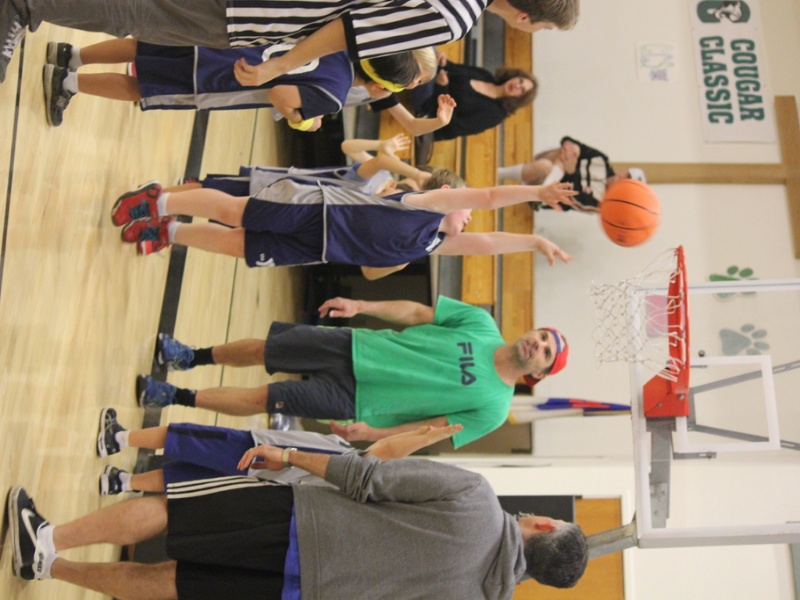person: (118, 314, 575, 424), (11, 511, 592, 594), (115, 181, 582, 264), (42, 50, 414, 126), (13, 3, 589, 44), (393, 60, 542, 142)
